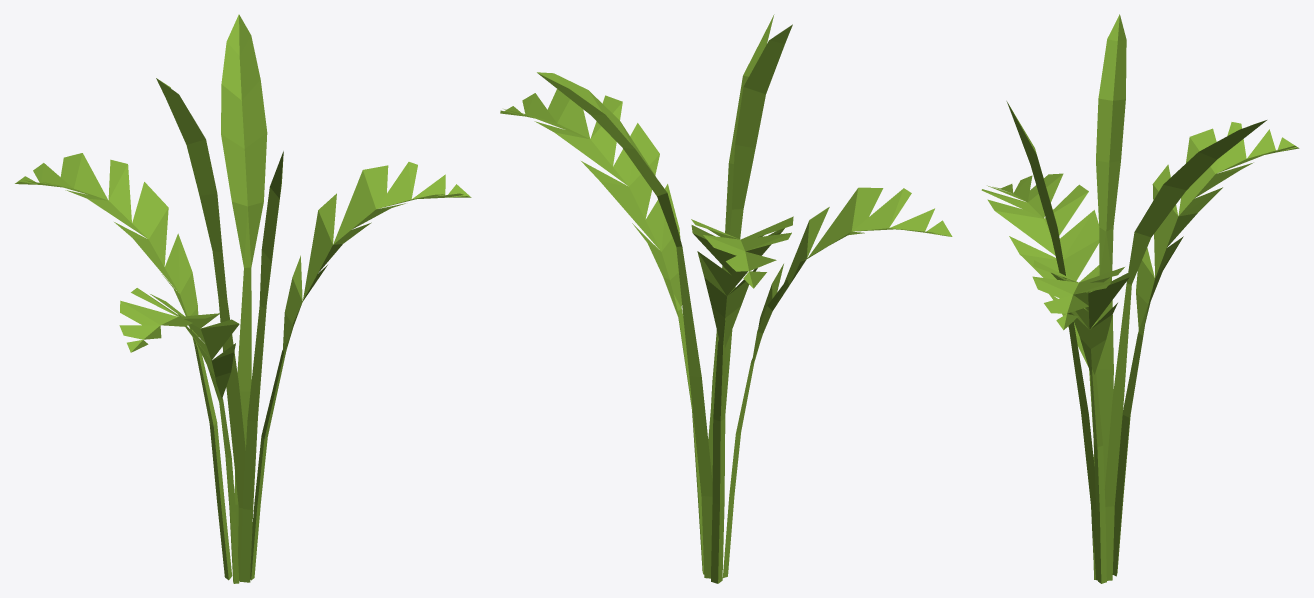
The model's file is SM_Tree_Palm_Sapling_A.fbx.
The picture shows the model from 3 angles, left to right: view 1: azimuth 30°, elevation 25°; view 2: azimuth 150°, elevation 25°; view 3: azimuth 270°, elevation 25°; orthographic projection. The views are drawn at different scales.
Parts seen in each view (by area): view 1: tree-palm-sapling-a; view 2: tree-palm-sapling-a; view 3: tree-palm-sapling-a.
Boxes of the visible parts, bbox=[...] form: tree-palm-sapling-a: bbox=[15, 14, 471, 583]; tree-palm-sapling-a: bbox=[500, 14, 952, 583]; tree-palm-sapling-a: bbox=[981, 14, 1299, 583].
Bounding box in the file's own units: 1.31 × 1.74 × 0.9544.
